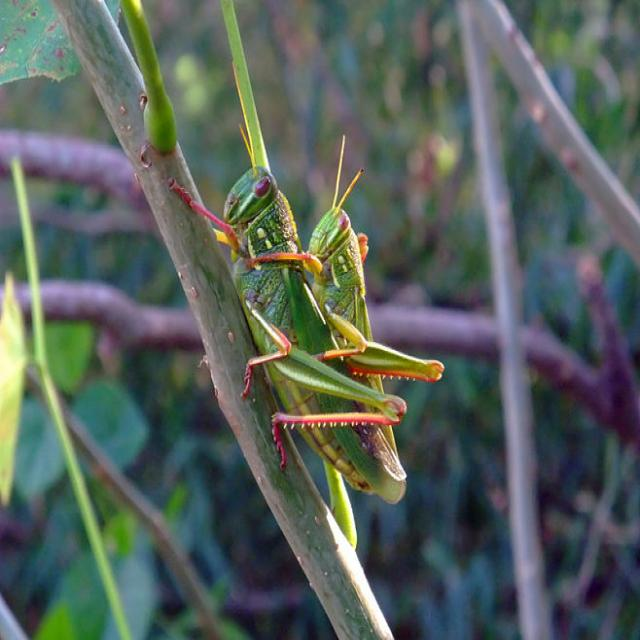ZhaMeng: (196, 144, 420, 502)
